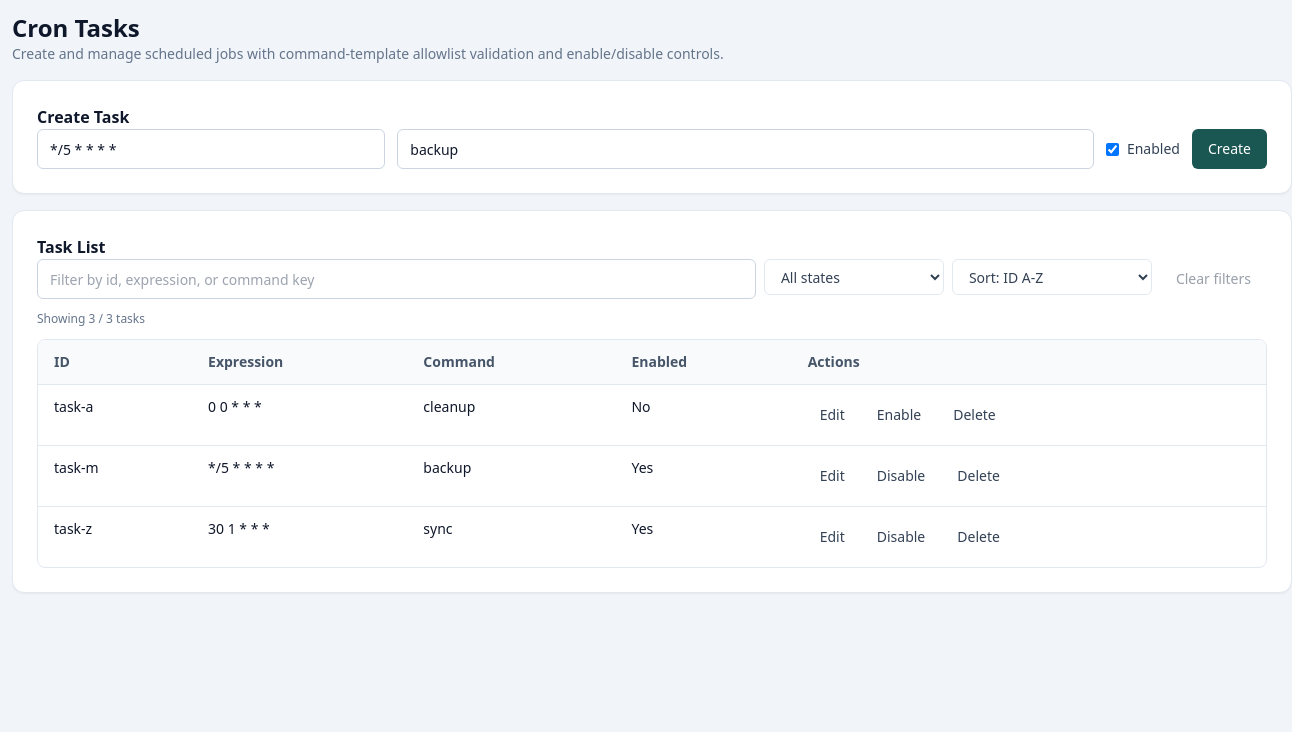
Test case: CronPage › filters and sorts tasks in task list
Expected: the text "Showing 3 / 3 tasks" is shown, [37,310,145,327]
Select "Sort: ID Z-A" in the 2nd dropdown at (1052, 277), box [952,259,1152,295]
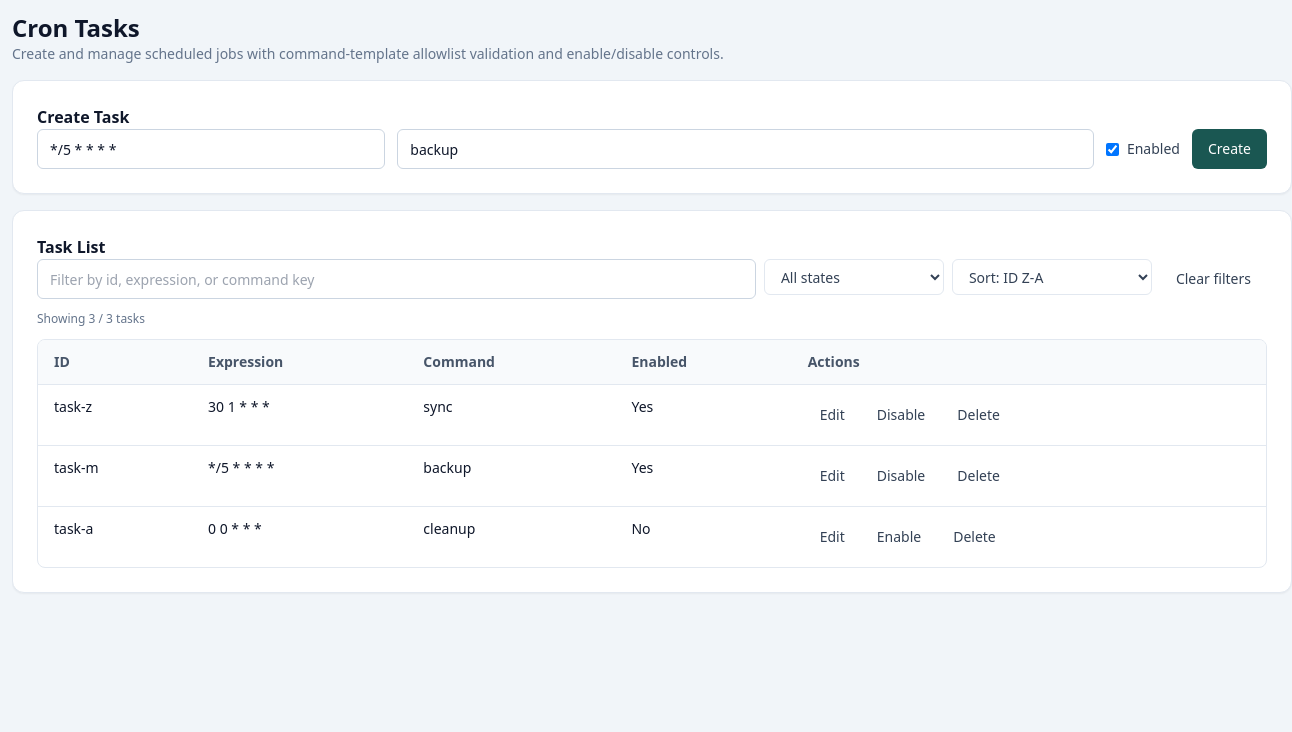
Type "backup" into the field with placeholder "Filter by id, expression, or command key" at (396, 279), box [37,259,756,299]
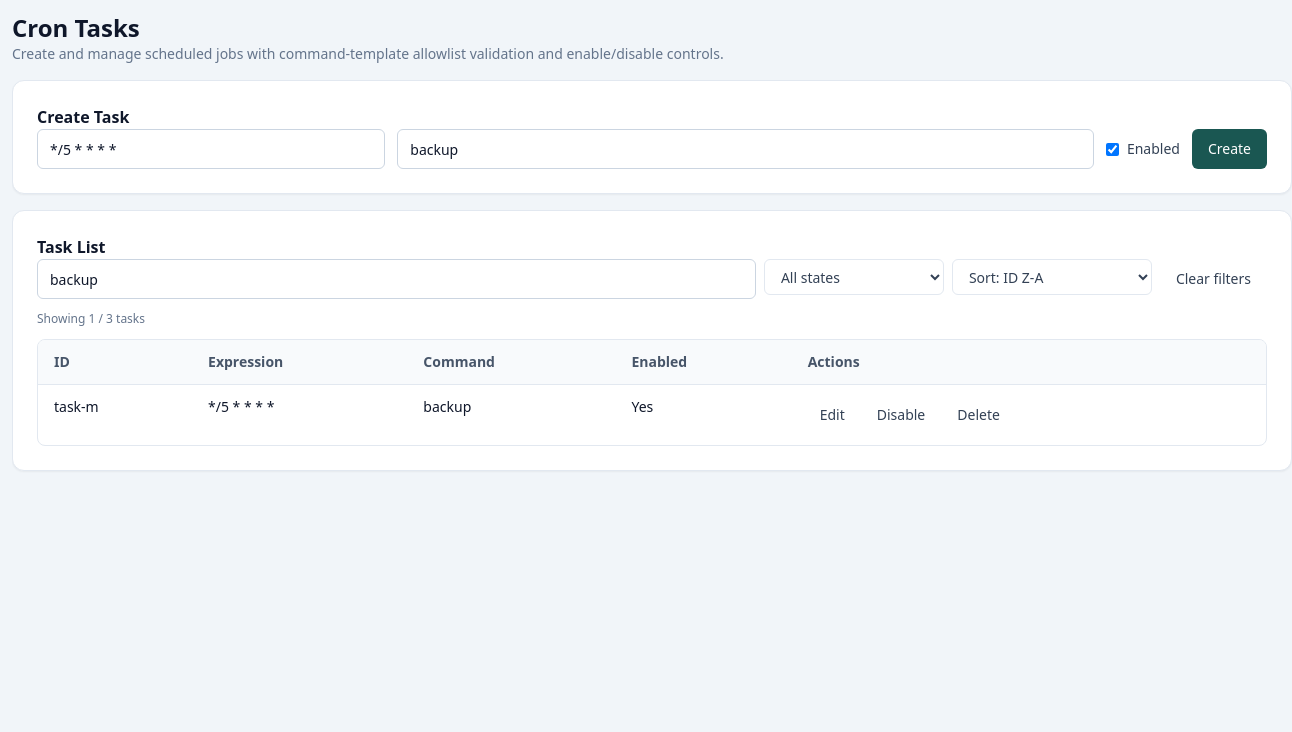
Expected: the text "Showing 1 / 3 tasks" is shown, [37,310,145,327]
Select "Disabled only" in the 1st dropdown at (854, 277), box [764,259,944,295]
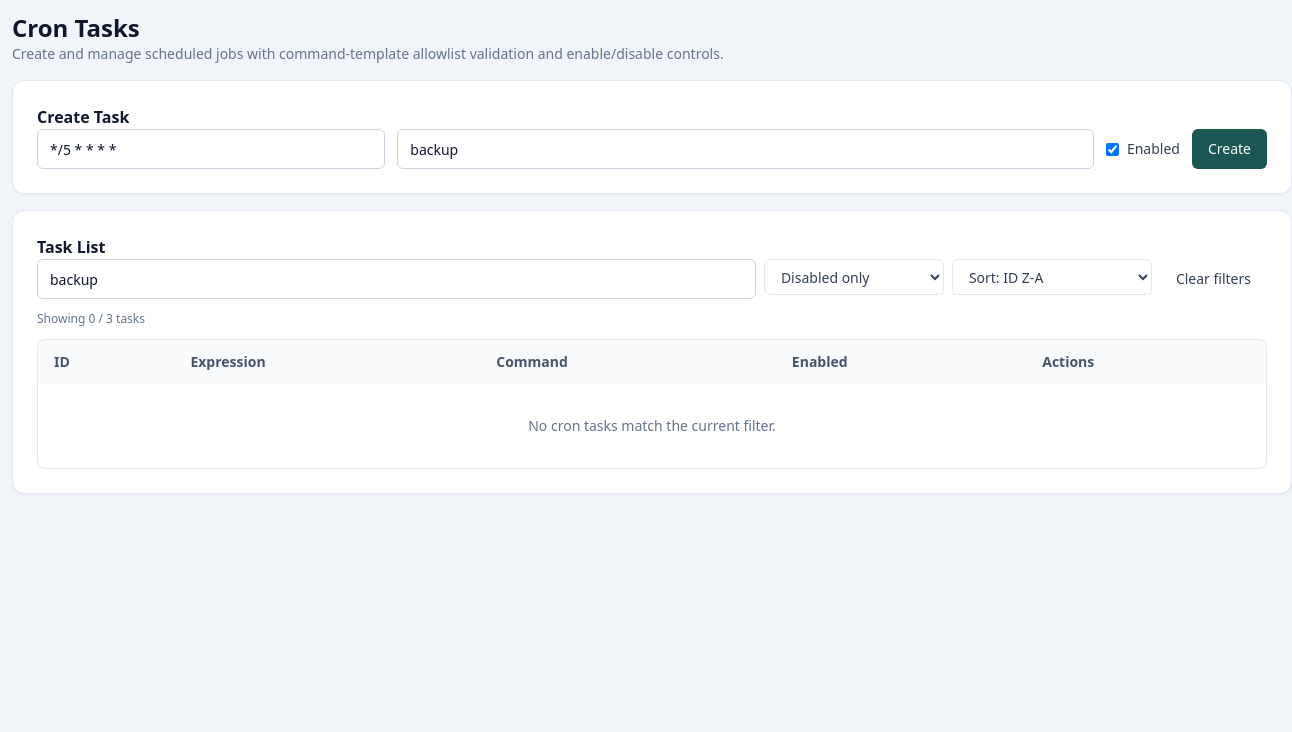
Expected: the text "No cron tasks match the current filter." is shown, [38,384,1266,468]
